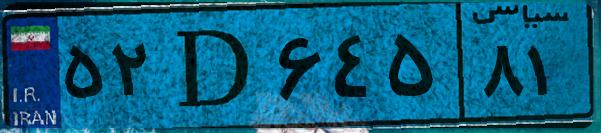1: (525, 38, 570, 115)
2: (110, 28, 158, 98)
4: (330, 28, 385, 110)
5: (385, 28, 445, 110), (57, 26, 110, 100)
6: (270, 28, 330, 110)
8: (475, 38, 525, 113)
D: (158, 12, 270, 120)
